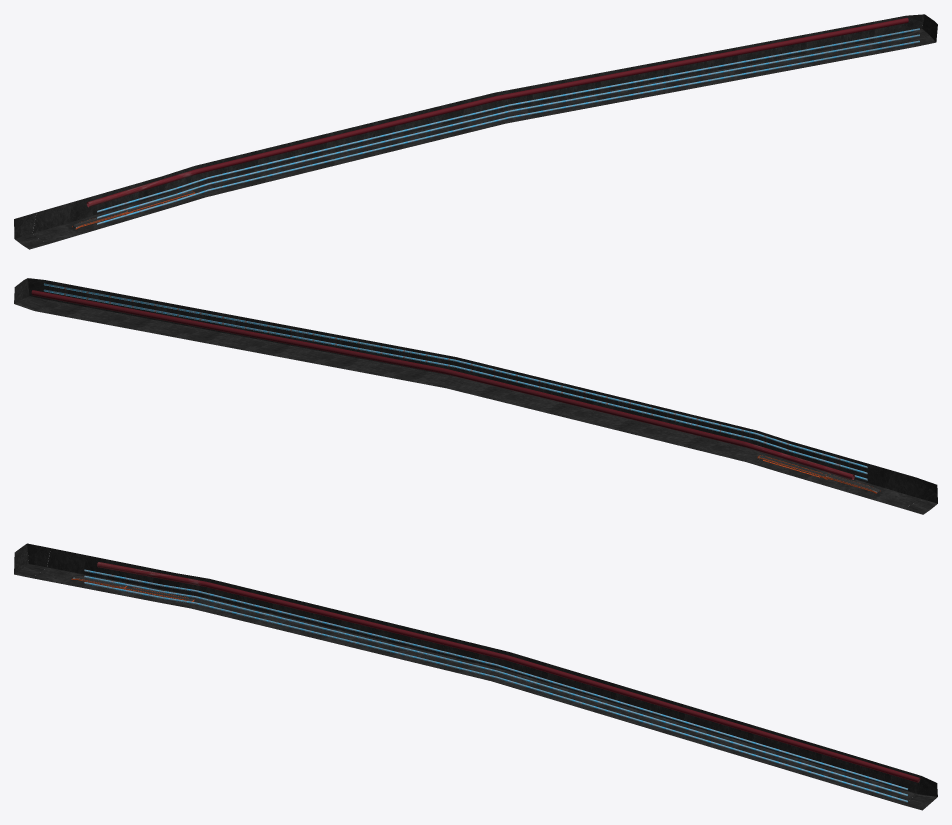
Rendered from juejinmian.gltf.
The picture shows the model from 3 angles, top to bottom: view 1: azimuth 30°, elevation 25°; view 2: azimuth 150°, elevation 25°; view 3: azimuth 330°, elevation 25°; orthographic projection.
Visible parts, largest first — view 1: meibi, 柱体, gongshui001, gongshui002, gongshui; view 2: meibi, 柱体, gongshui, gongshui001; view 3: meibi, 柱体, gongshui001, gongshui002, gongshui.
Part boxes in pixels (<box>): meibi: <box>14,14,937,249</box>; 柱体: <box>86,17,908,207</box>; gongshui001: <box>97,34,919,218</box>; gongshui002: <box>97,40,919,224</box>; gongshui: <box>97,28,919,212</box>; meibi: <box>14,278,937,514</box>; 柱体: <box>31,290,854,479</box>; gongshui: <box>44,283,867,467</box>; gongshui001: <box>43,289,867,474</box>; meibi: <box>14,543,937,810</box>; 柱体: <box>97,562,920,782</box>; gongshui001: <box>84,575,907,796</box>; gongshui002: <box>84,582,907,802</box>; gongshui: <box>84,569,907,790</box>.
Size of the model in its own units: 179 by 8.14 by 5.12.
9 materials, 9 textured.
